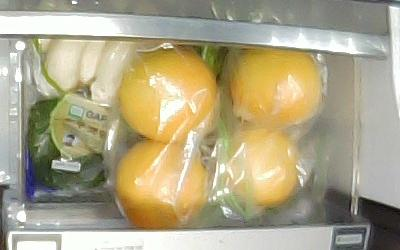grapefruit_vinyl: (119, 50, 218, 143), (115, 139, 208, 227), (228, 50, 321, 129), (213, 128, 303, 208)
